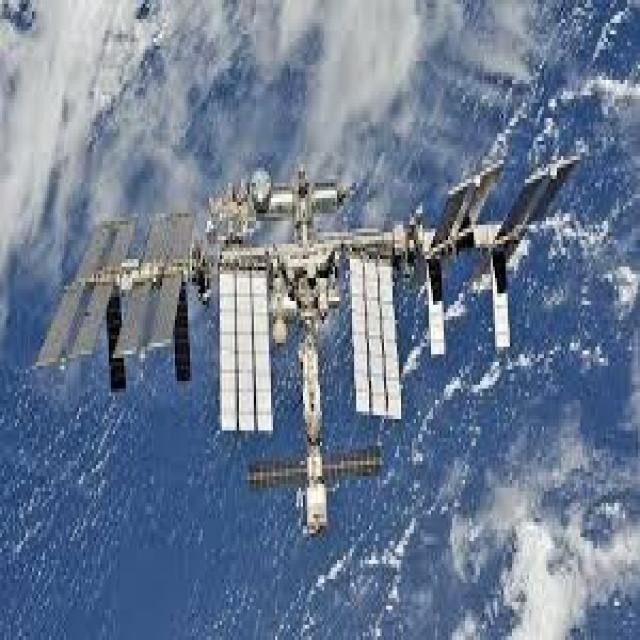medium_debris: (36, 158, 579, 532)
